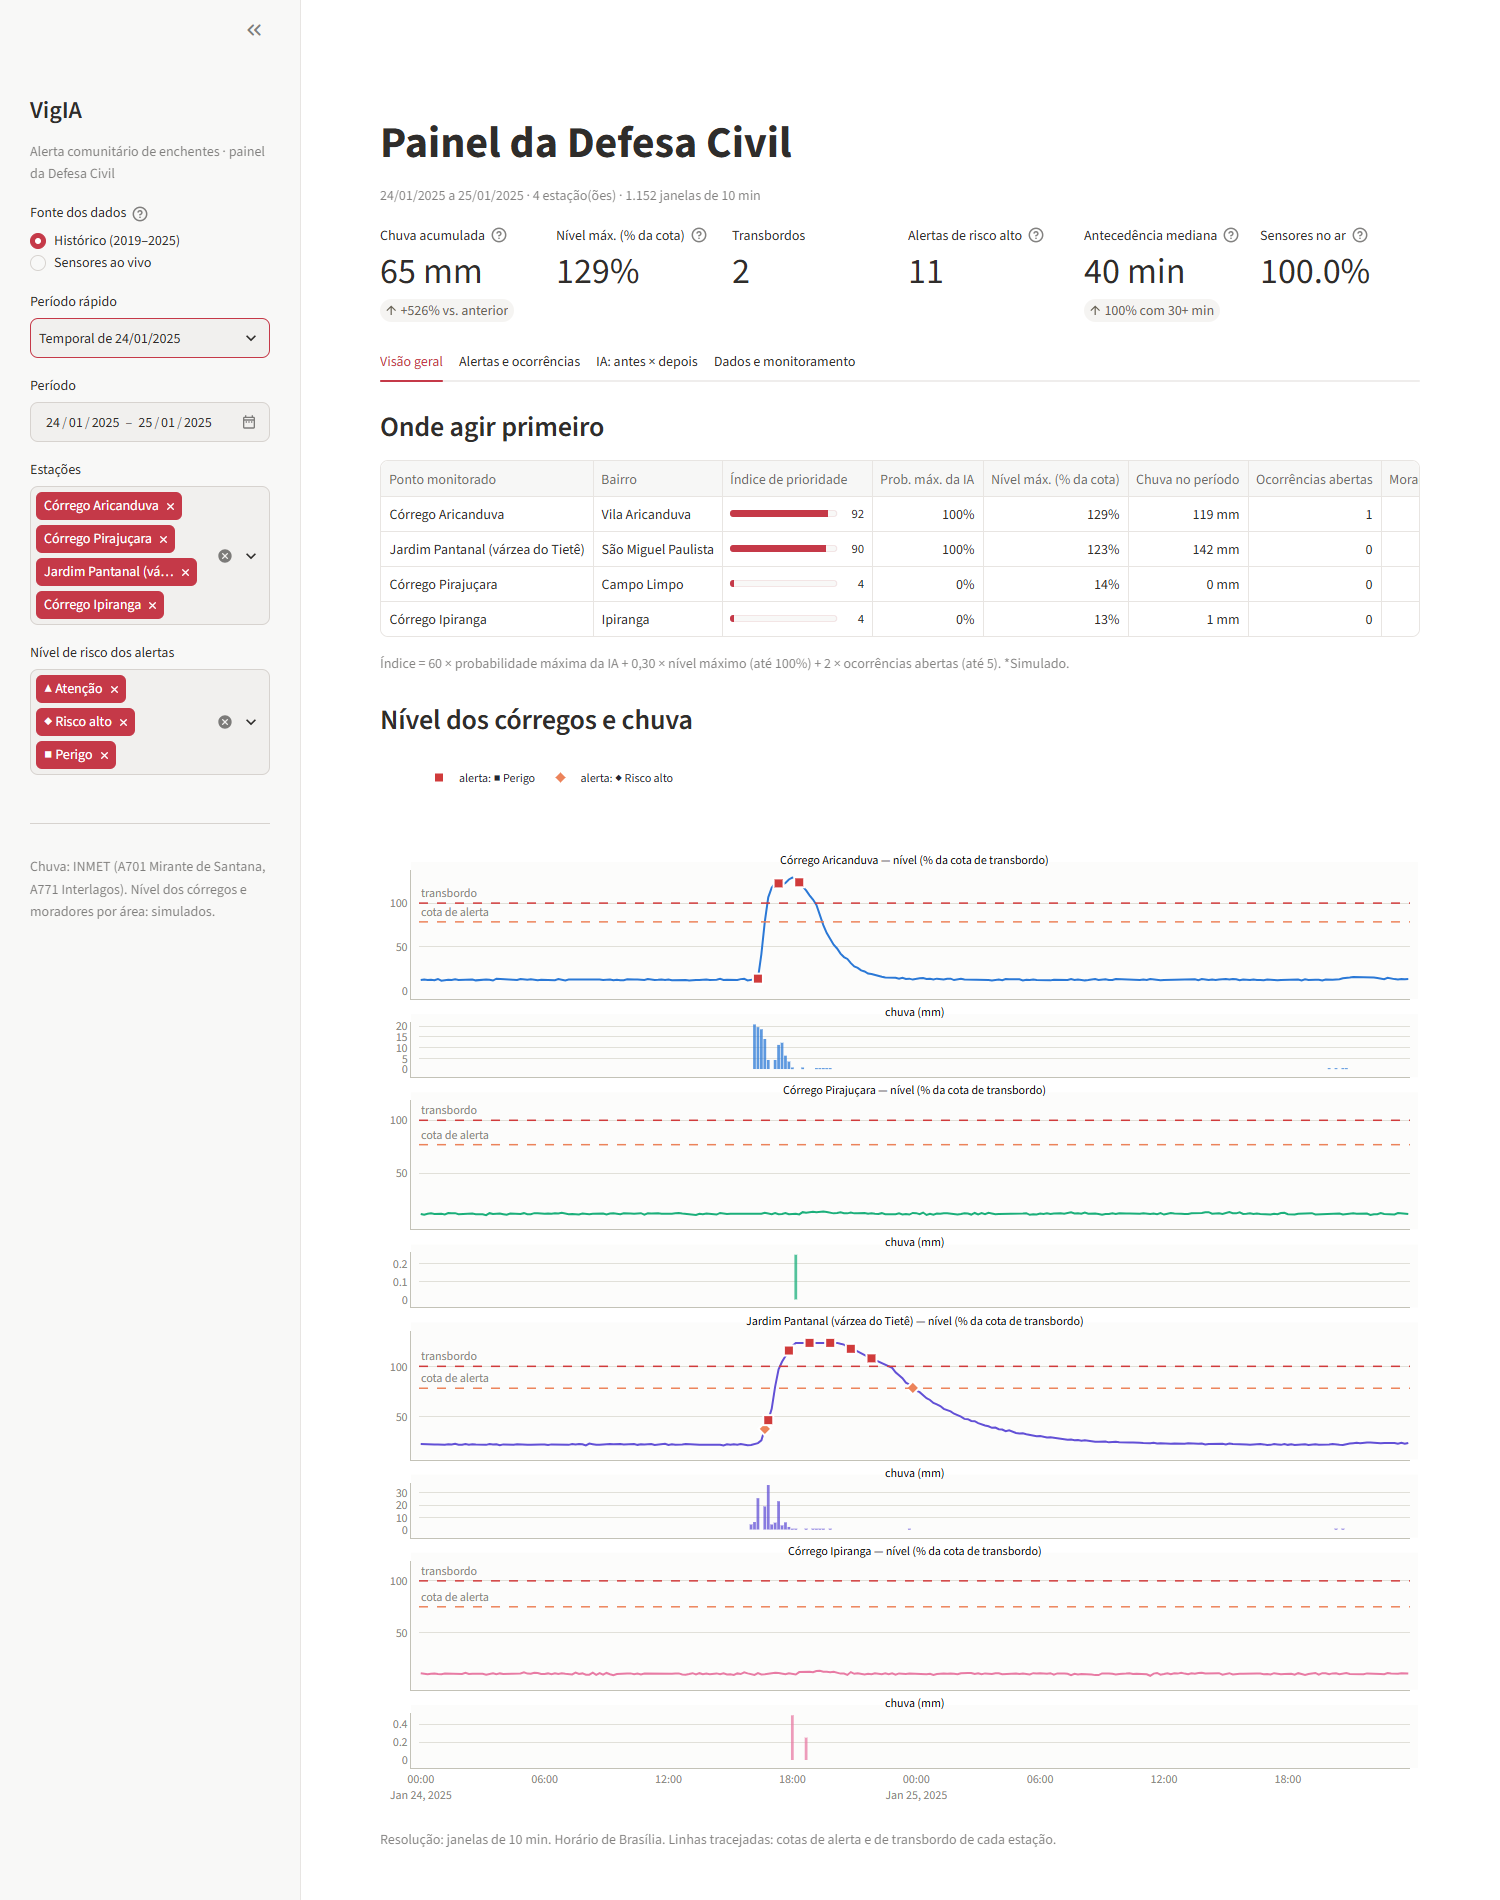

The page's visual inventory and layout, read from the dashboard file:
{"tool":"powerbi","page":{"name":"Página 1","canvas":[1920,1080],"ordinal":0},"visuals":[{"type":"htmlContent443BE3AD55E043BF878BED274D3A6855","fields":{"content":["Medidas.VigIA Painel HTML"]},"box":[0,0,1920,1079.6],"z":0},{"type":"slicer","fields":{"Values":["dim_data.data"]},"box":[42.3,134.2,300.5,52.5],"z":1},{"type":"slicer","fields":{"Values":["dim_estacao.nome"]},"box":[367.7,137.1,356,52.5],"z":2}]}

Visuals, with their boxes on the page's 1920x1080 design canvas (x1, y1, x2, y2). These are canvas units, not pixel positions in the 1500x1900 screenshot, which may show the page scaled, cropped or inside an application window:
htmlContent443BE3AD55E043BF878BED274D3A6855 - Medidas.VigIA Painel HTML: <box>0,0,1920,1080</box>
slicer - dim_data.data: <box>42,134,343,187</box>
slicer - dim_estacao.nome: <box>368,137,724,190</box>
